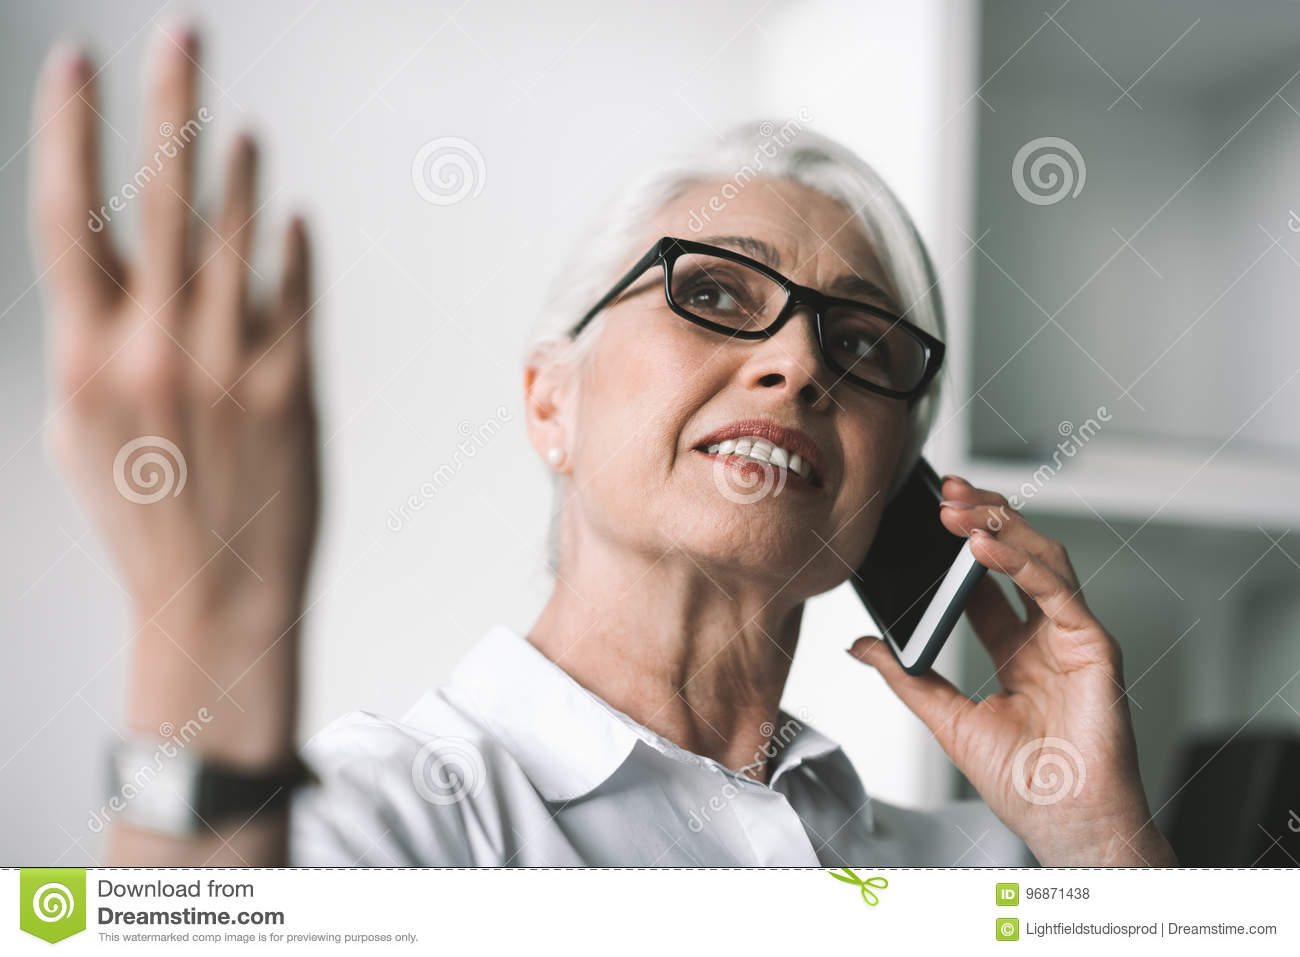phone: (856, 449, 1001, 674)
talk: (612, 227, 1166, 869)
